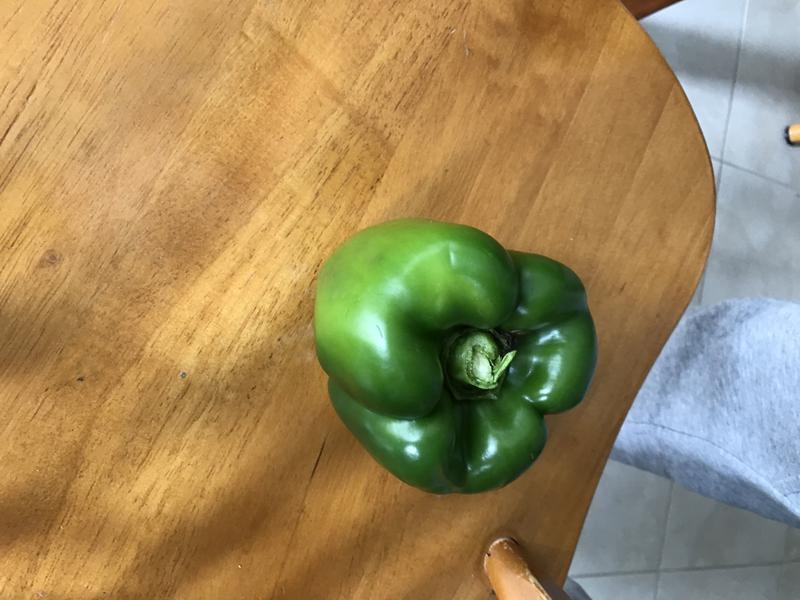green_pepper: (298, 211, 608, 507)
